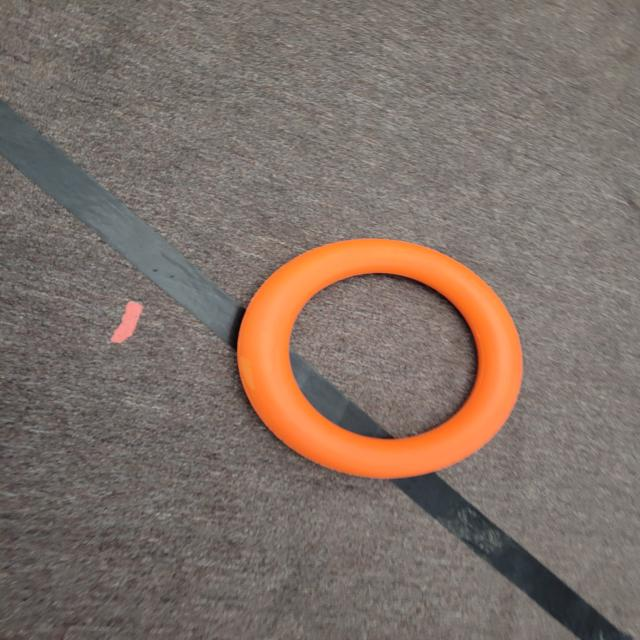note: (225, 224, 556, 508)
